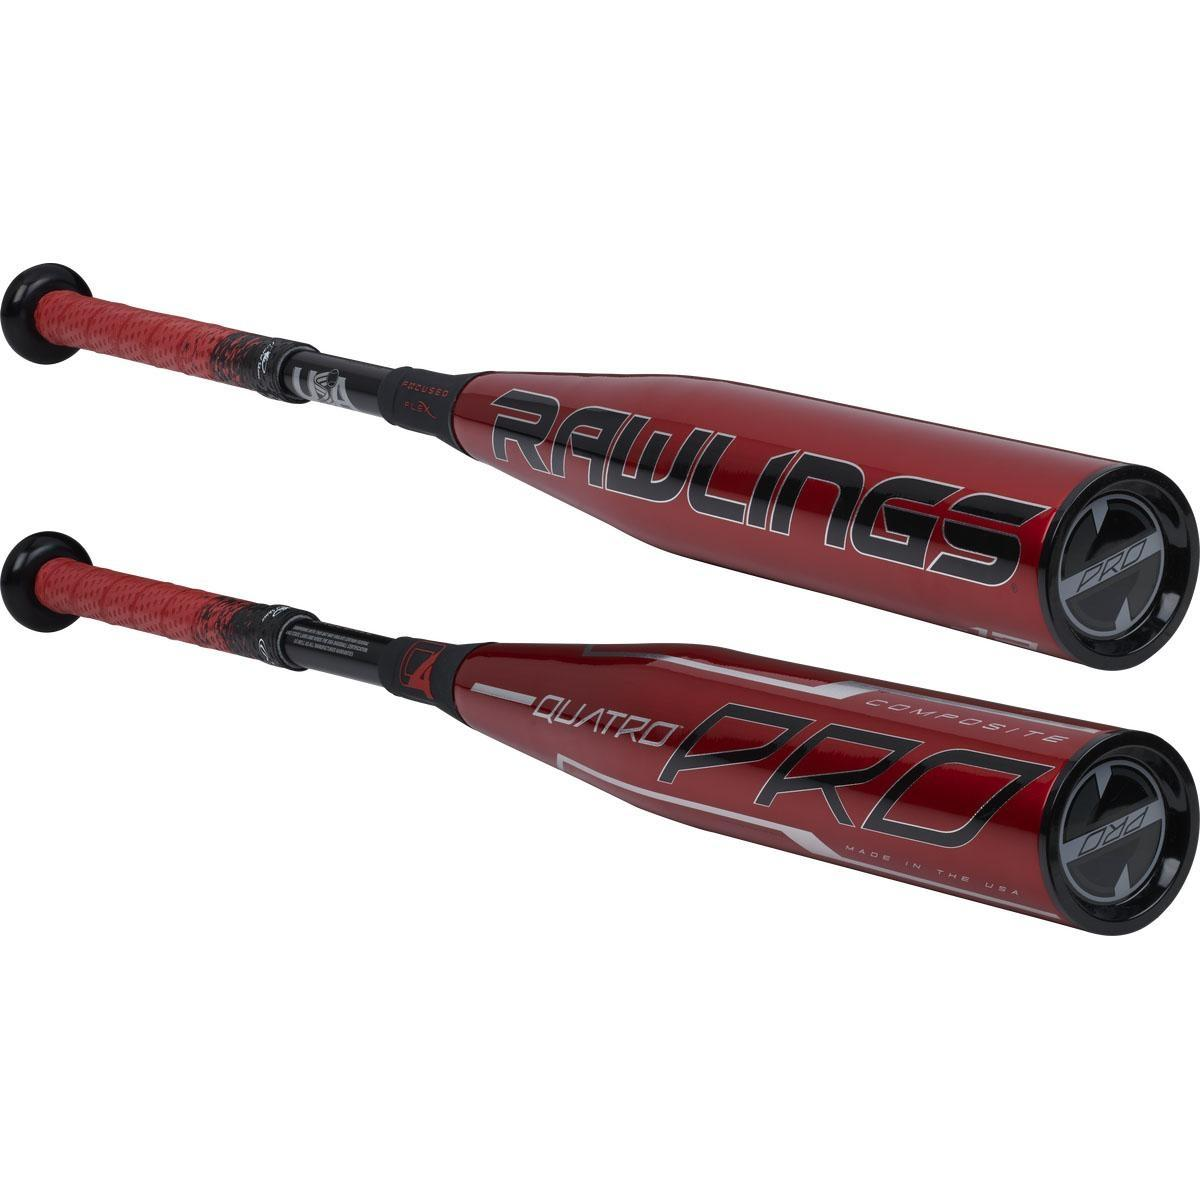Baseball-Bat: (8, 663, 1190, 960)
